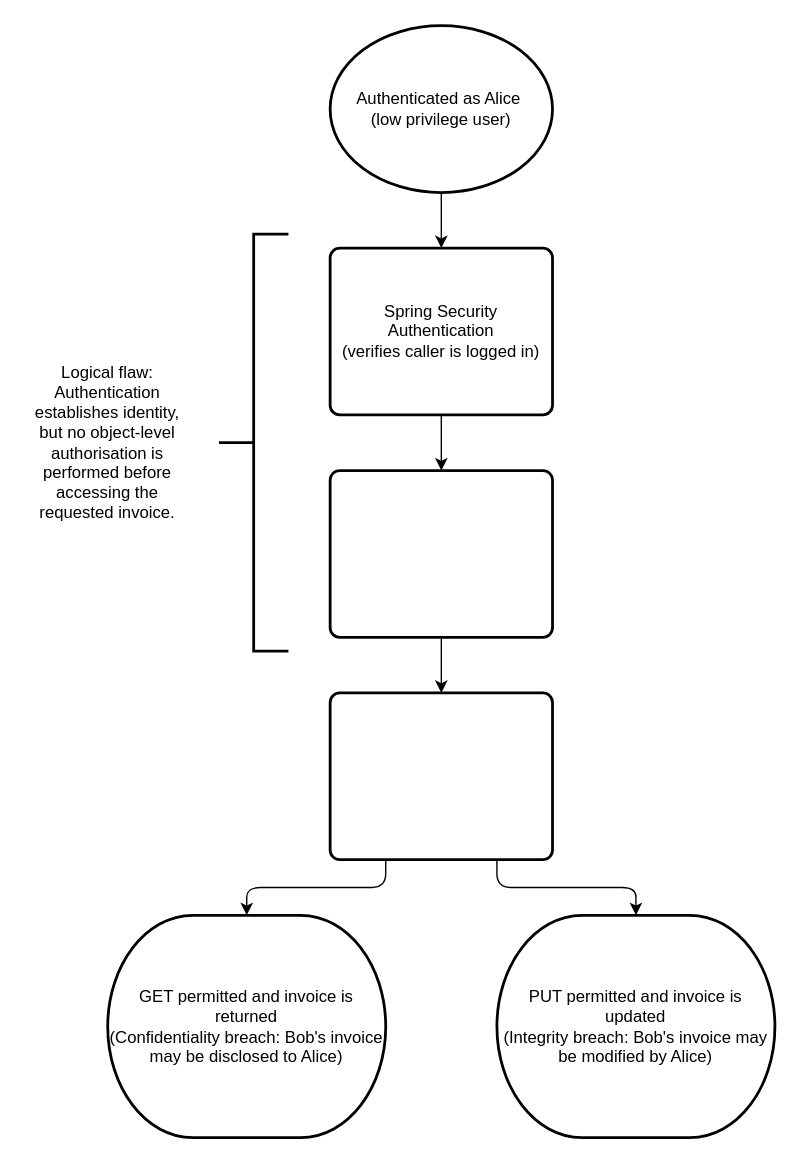
Image size: 799x1162. Some labels were removed from this diagram. The shapes that lost their labels are listed below. From the top down, each one's box as (x1, y1, x2, y2) in pixels, then its label:
(328, 468, 553, 638): Alice requests an invoice to review/update
(328, 691, 553, 860): Invoice loaded using supplied ID only (Ownership not validated)
